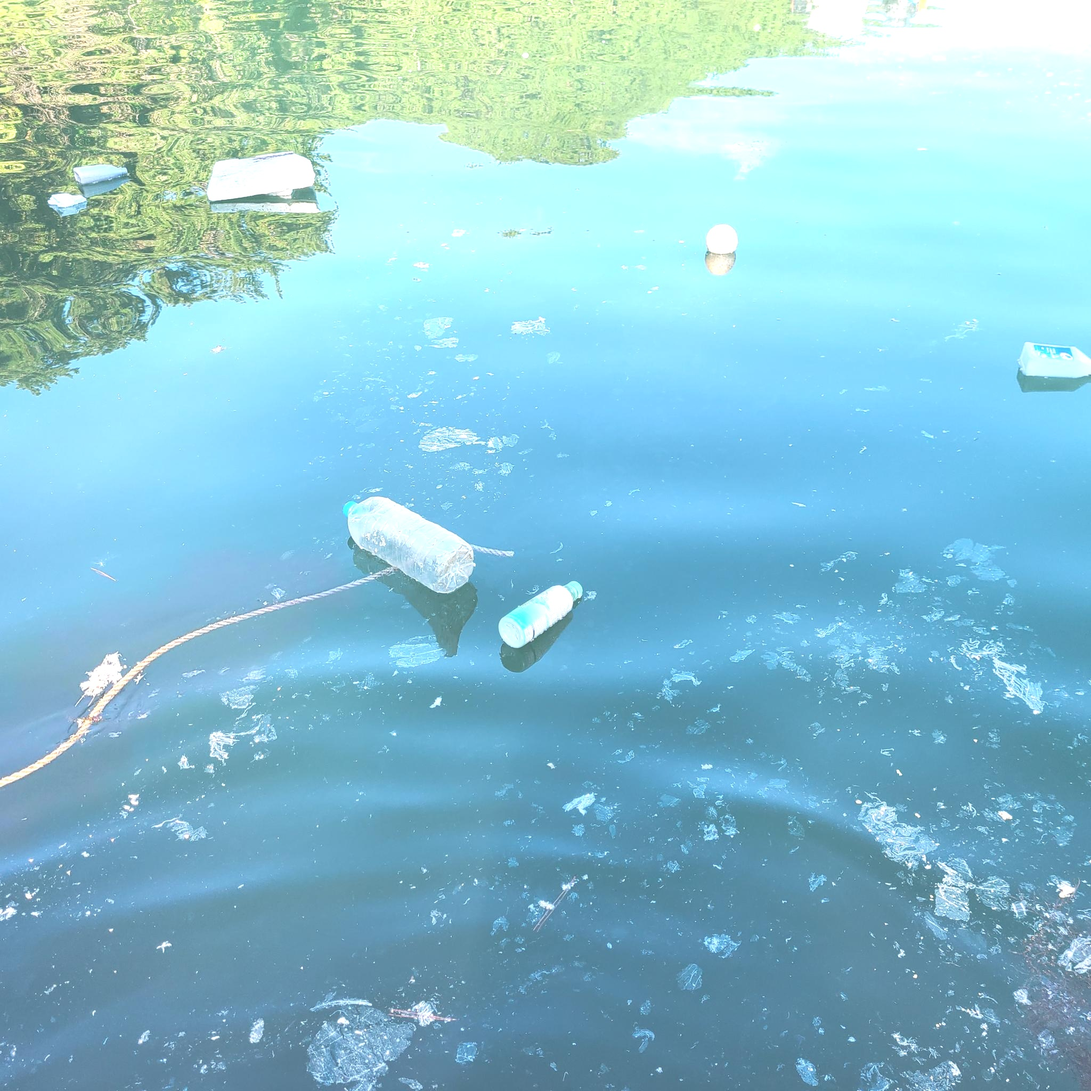sampah_terapung: (1, 544, 516, 789), (343, 497, 474, 594), (499, 582, 583, 649), (208, 152, 316, 201), (1018, 341, 1091, 378), (74, 165, 128, 184), (707, 225, 739, 254), (47, 193, 87, 208), (265, 190, 293, 197)
